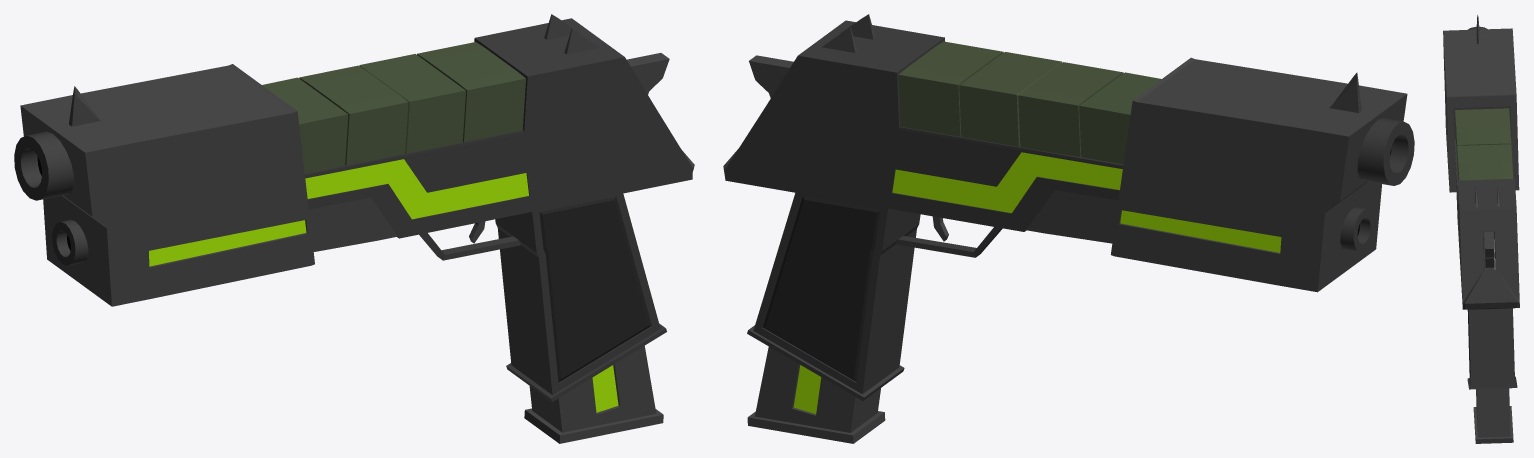
File: Gun1.fbx
3 views of the same model, side by side, from view 1: azimuth 30°, elevation 25°; view 2: azimuth 150°, elevation 25°; view 3: azimuth 270°, elevation 25° (orthographic). The views are drawn at different scales.
Visible parts, largest first — view 1: polySurface9; view 2: polySurface9; view 3: polySurface9.
Boxes of the visible parts, bbox=[...] form: polySurface9: bbox=[14, 14, 694, 443]; polySurface9: bbox=[723, 14, 1414, 443]; polySurface9: bbox=[1443, 15, 1519, 443].
Bounding box in the file's own units: 26.75 × 18.75 × 4.86.
